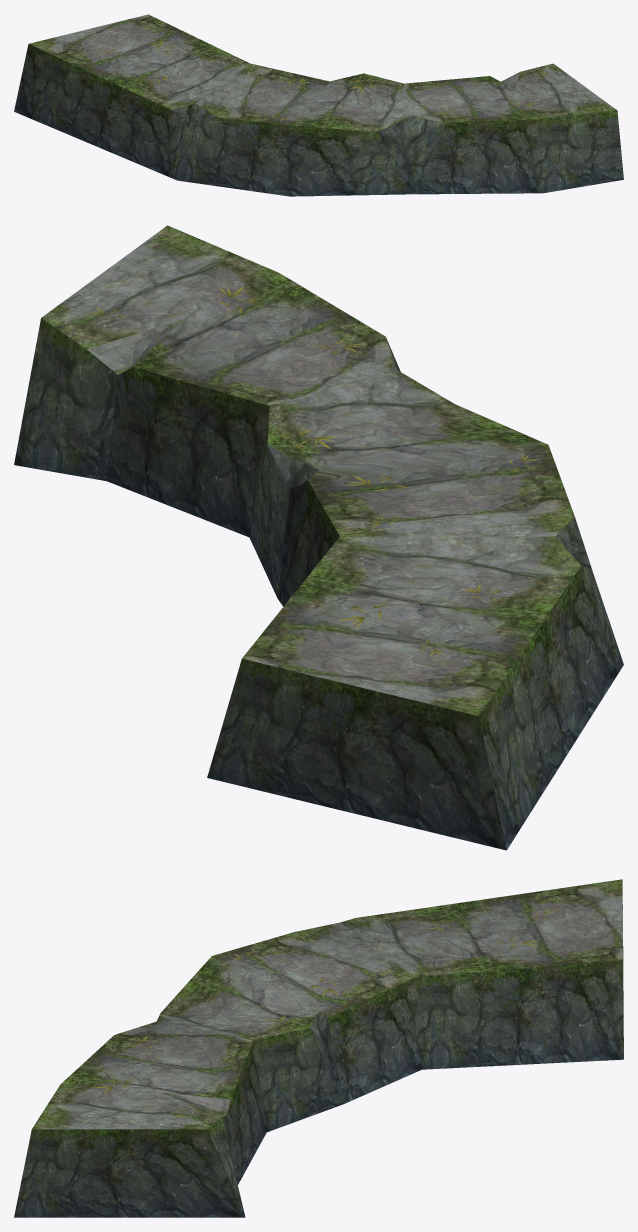
Rendered from lumian_wlc_41.FBX.
3 views of the same model, one above another, from view 1: azimuth 30°, elevation 25°; view 2: azimuth 150°, elevation 25°; view 3: azimuth 270°, elevation 25° (orthographic). The views are drawn at different scales.
Parts seen in each view (by area): view 1: lumian_wlc_41; view 2: lumian_wlc_41; view 3: lumian_wlc_41.
Boxes of the visible parts, bbox=[...] form: lumian_wlc_41: bbox=[14, 14, 623, 196]; lumian_wlc_41: bbox=[14, 225, 623, 850]; lumian_wlc_41: bbox=[14, 879, 623, 1217].
Size of what is drawn, in the model's own units: 2098 by 338 by 2085.
